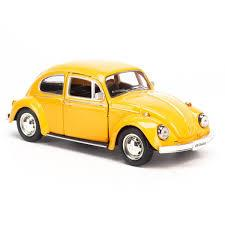volkswagen: (5, 57, 213, 167)
